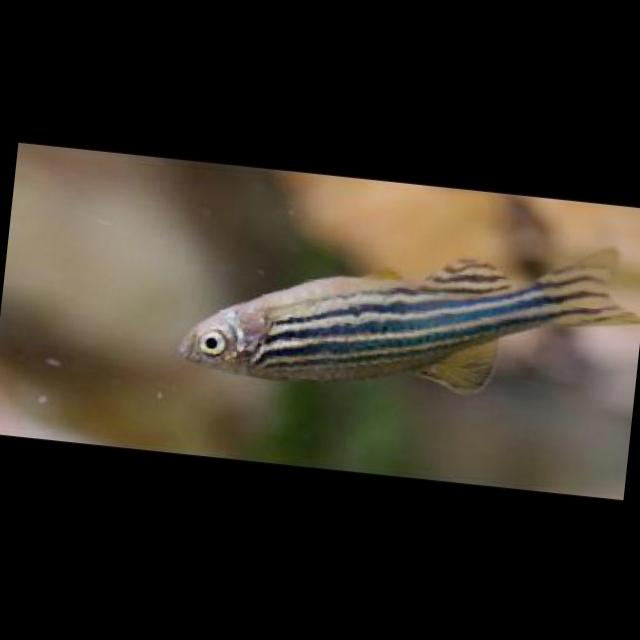ZebraFish: (175, 203, 640, 423)
